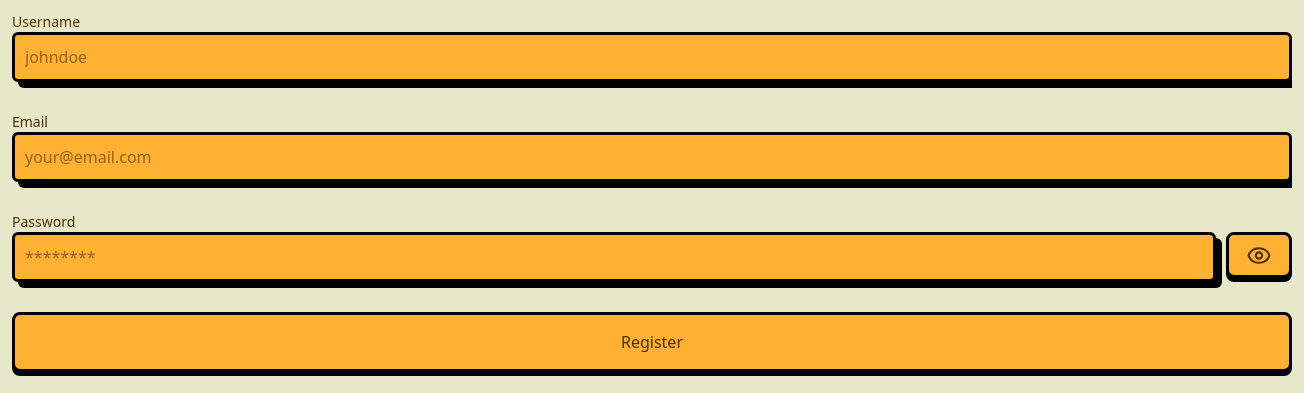
Test: RegisterForm › shows an error message if the auto-login fails
The width and height of the screenshot is (1304, 393).
Type "testuser" into the field labelled "Username" at coordinates (652, 57), box [12,32,1292,82]
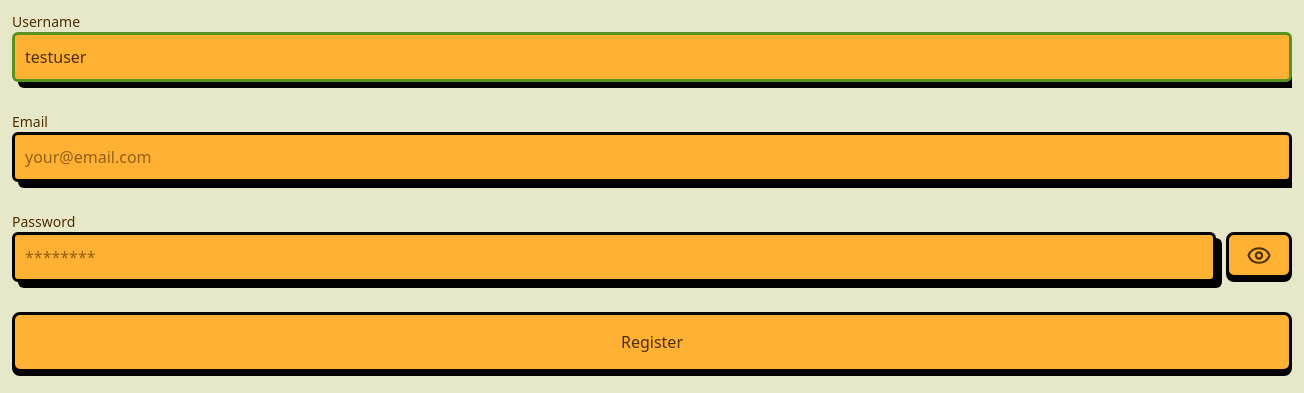
Type "test@example.com" into the field labelled "Email" at coordinates (652, 157), box [12,132,1292,182]
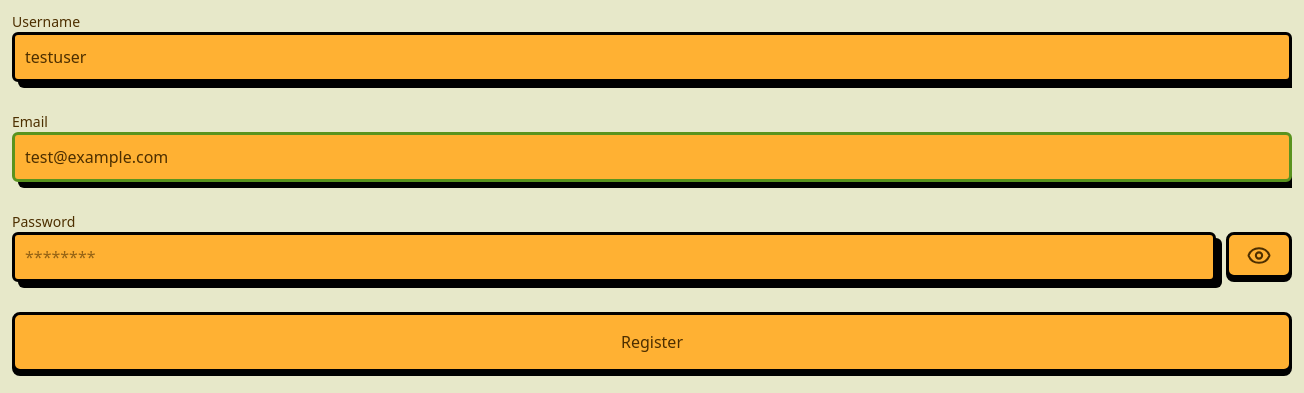
Type "Password123" into the password field labelled "Password" at coordinates (614, 257), box [12,232,1216,282]
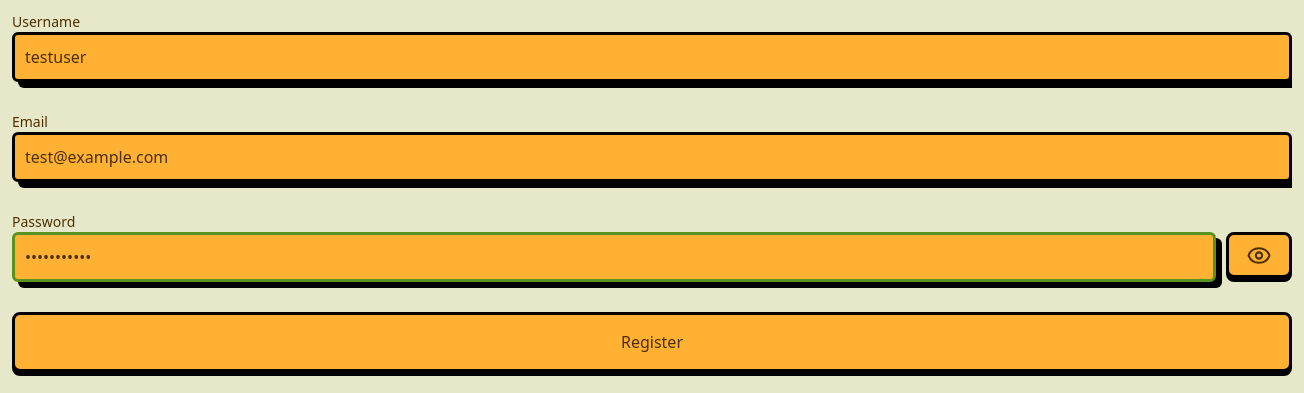
Click the button "Register" at coordinates (652, 342), box [12,312,1292,372]
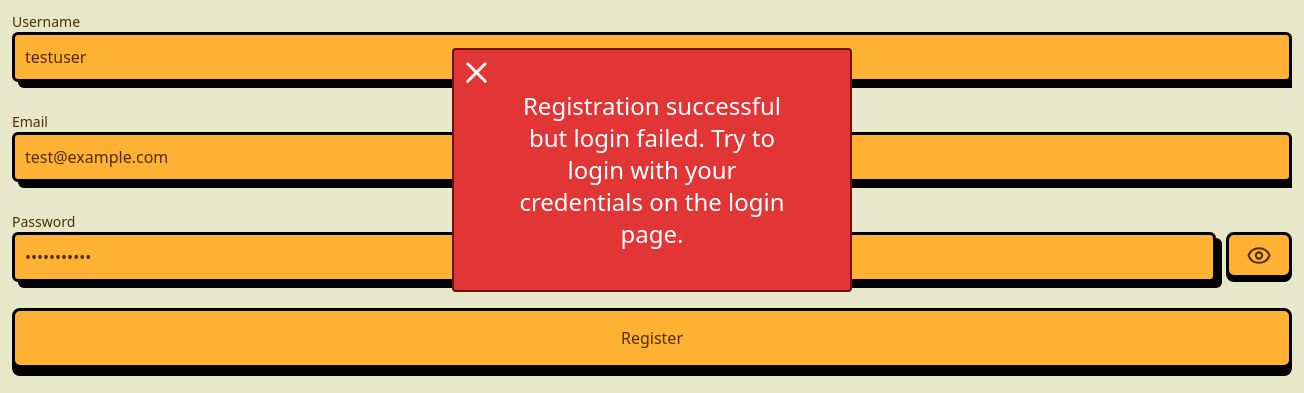
Check: the text "Registration successful but login failed" is shown, box [519,89,785,250]
